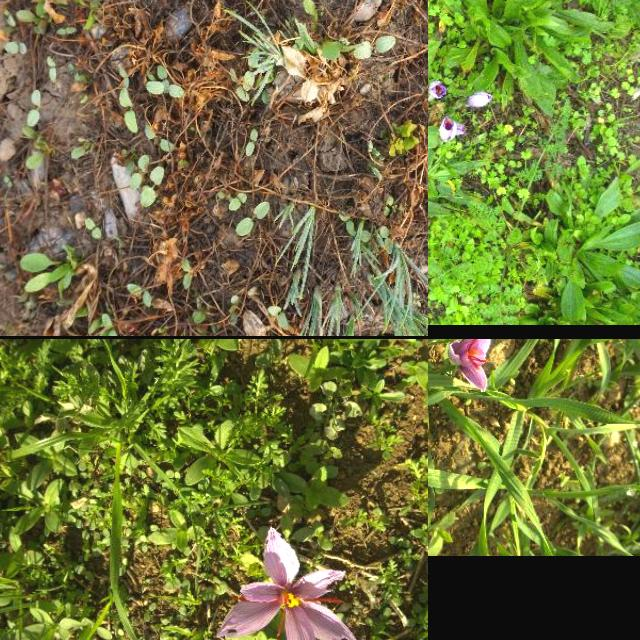flower: (216, 527, 362, 640), (447, 339, 492, 391), (438, 117, 458, 143), (466, 92, 492, 108), (429, 80, 447, 100)
